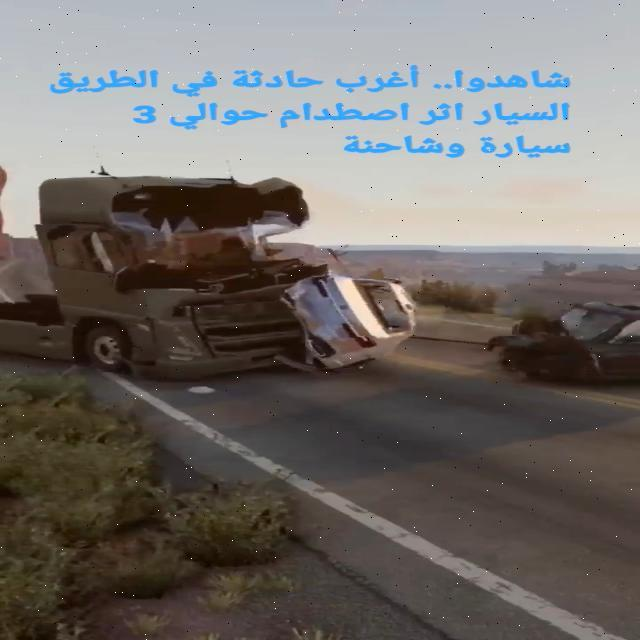accident: (0, 169, 412, 384)
